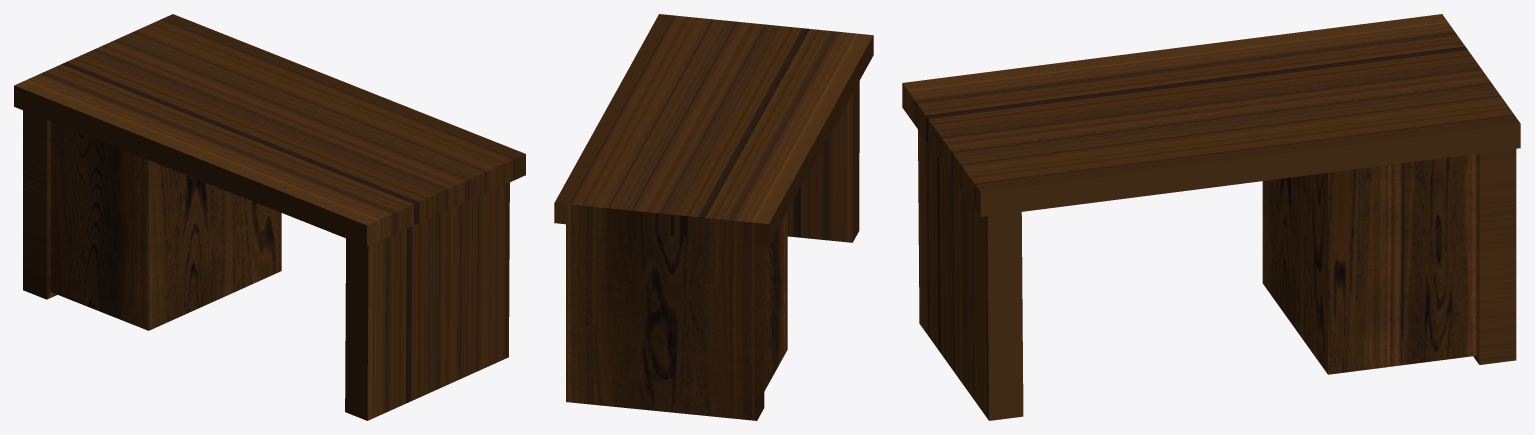
Rendered from Bureau_essai2.fbx.
3 renders of one model, left to right at view 1: azimuth 30°, elevation 25°; view 2: azimuth 150°, elevation 25°; view 3: azimuth 270°, elevation 25°, orthographic. The views are drawn at different scales.
Visible parts, largest first — view 1: bureau 1; view 2: bureau 1; view 3: bureau 1.
Boxes of the visible parts, box(x1,y1,x2,y2) form: bureau 1: box(14, 14, 525, 420); bureau 1: box(554, 14, 873, 420); bureau 1: box(902, 14, 1520, 420).
Bounding box in the file's own units: 687 × 1007 × 437.
